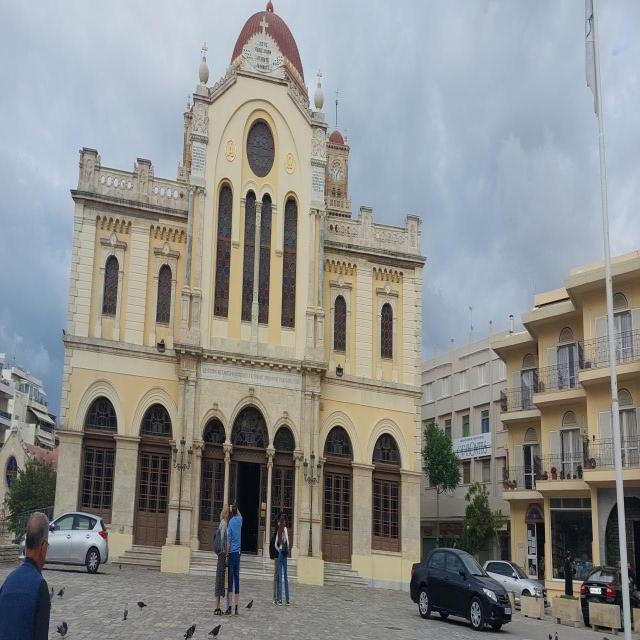Agios Minas: (49, 1, 427, 592)
